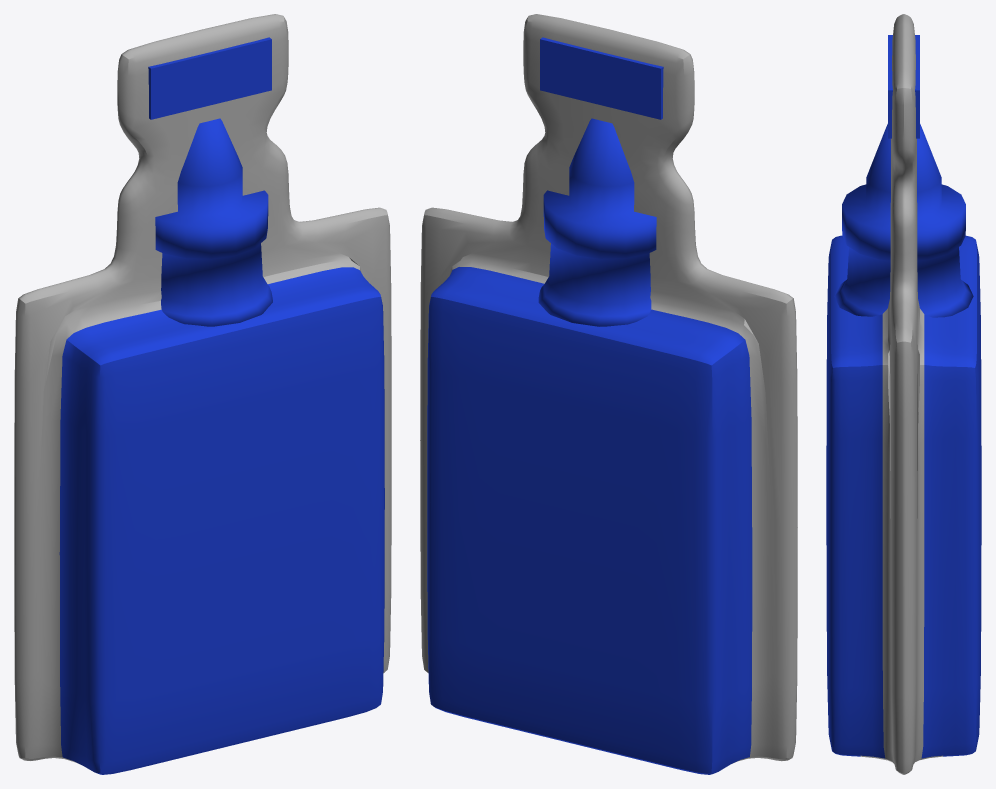
The model's file is suplemen.glb.
3 renders of one model, left to right at view 1: azimuth 30°, elevation 25°; view 2: azimuth 150°, elevation 25°; view 3: azimuth 270°, elevation 25°, orthographic. The views are drawn at different scales.
Parts seen in each view (by area): view 1: Cube.046, Cylinder.006, Cube.050; view 2: Cube.046, Cylinder.006, Cube.050; view 3: Cube.046, Cylinder.006, Cube.050.
Boxes of the visible parts, box(x1,y1,x2,y2) form: Cube.046: box(14, 14, 391, 774); Cylinder.006: box(155, 118, 272, 326); Cube.050: box(148, 37, 271, 119); Cube.046: box(420, 14, 797, 774); Cylinder.006: box(538, 118, 656, 326); Cube.050: box(540, 37, 663, 119); Cube.046: box(826, 14, 981, 774); Cylinder.006: box(834, 124, 973, 317); Cube.050: box(888, 35, 919, 138).
Size of the model in its own units: 2.2 by 3.85 by 0.832.
